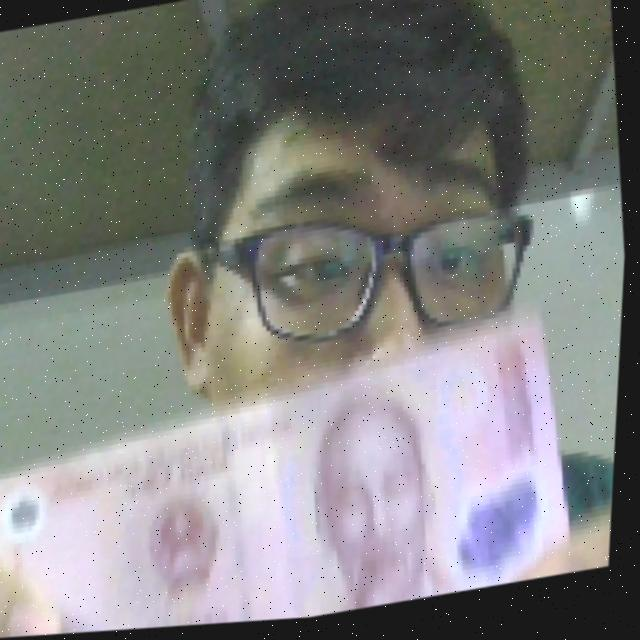20 000 VND: (0, 311, 604, 640)
